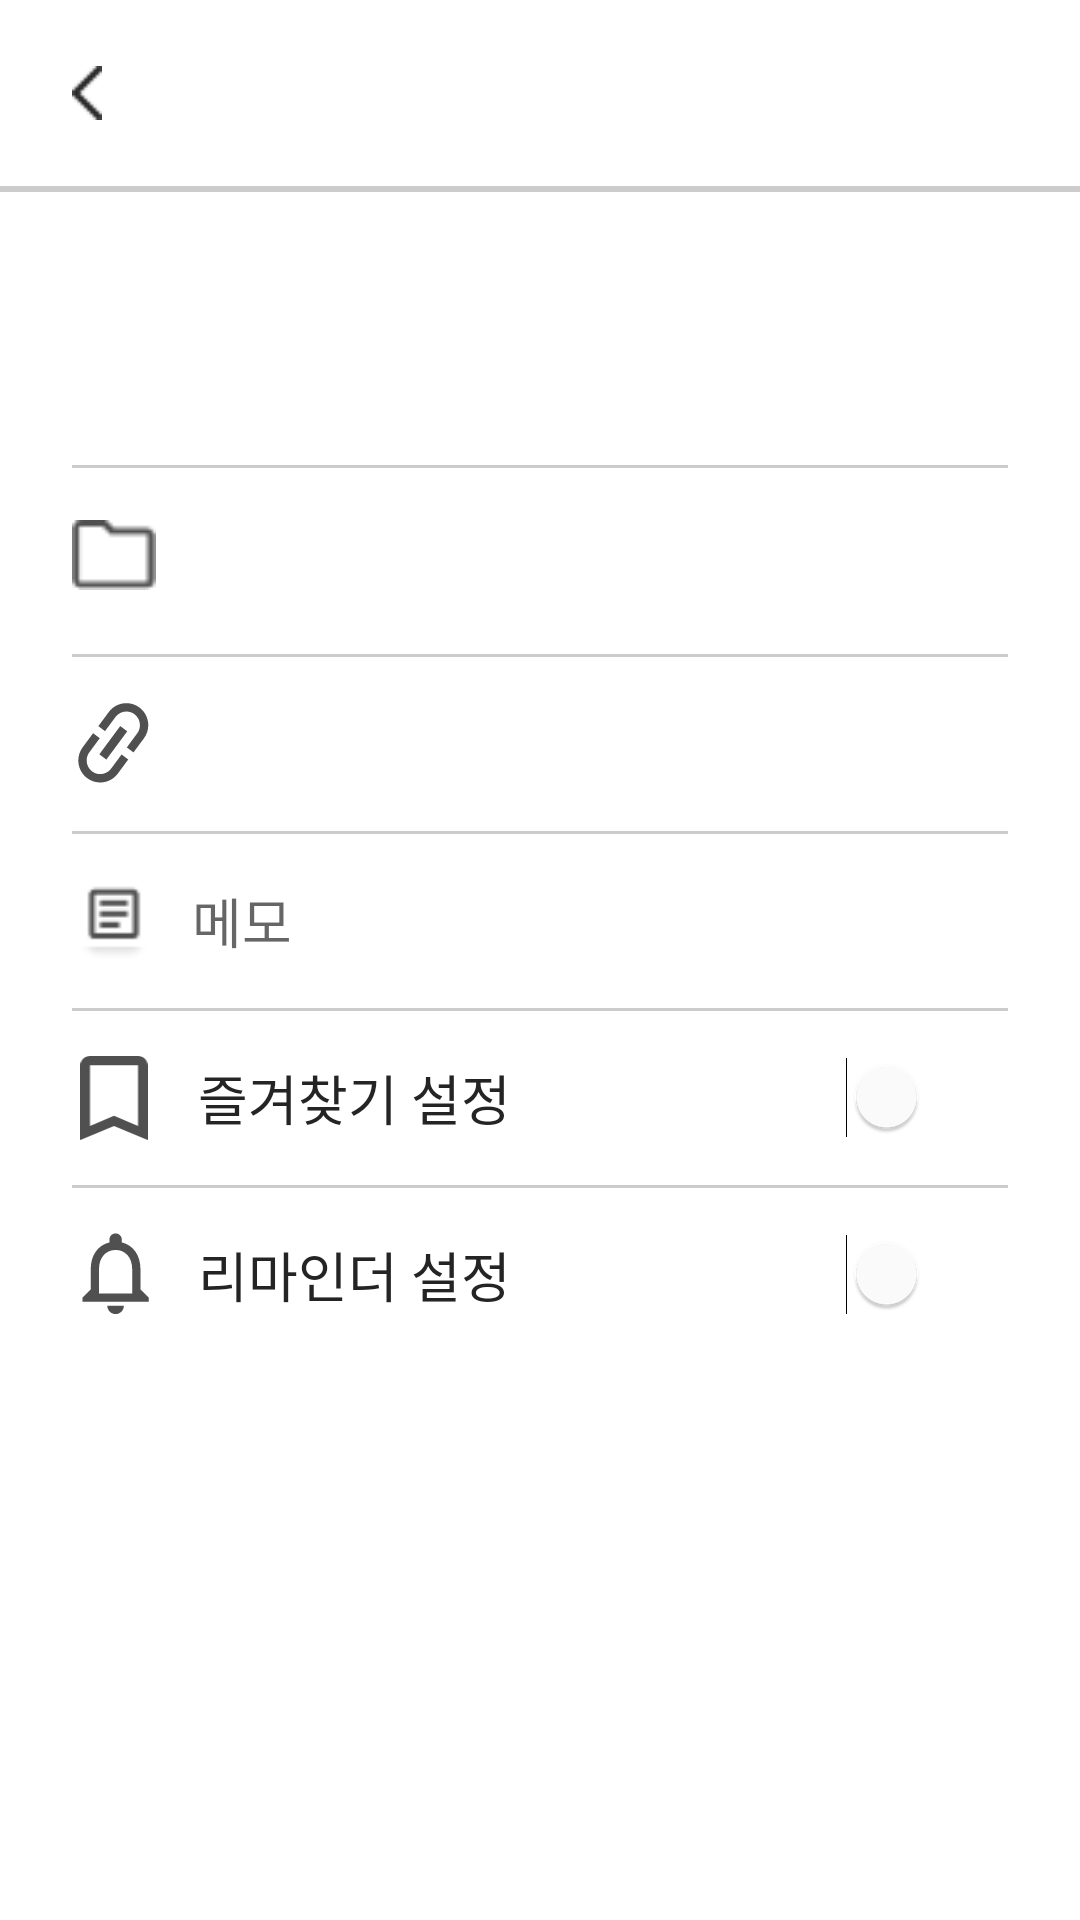

Point at icon controls on the screen. Image size 1080px x 1920px, points as [x,y].
add link: [113,743]
arrow back: [87,93]
folder: [114,555]
memo: [114,918]
